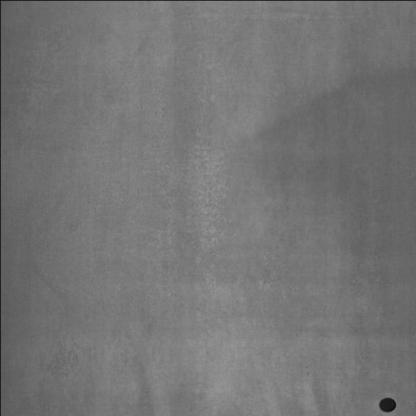punching_hole: (375, 392, 398, 416)
